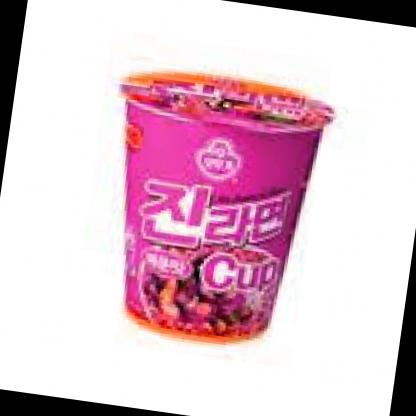Ramen: (82, 48, 342, 366)
